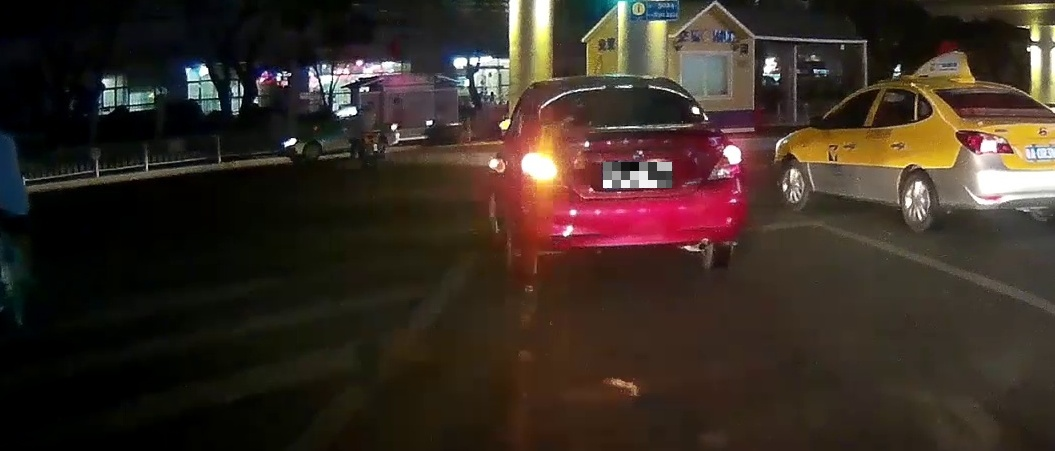L_light: (520, 143, 570, 187)
R_light: (707, 139, 743, 182)
T_light: (603, 84, 636, 91)
night-left: (514, 76, 747, 276)
plate_1: (603, 162, 672, 188)
